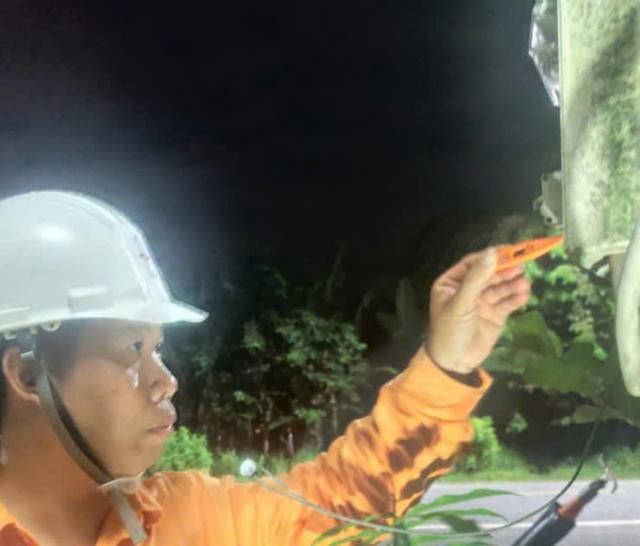helmet: (0, 143, 254, 363)
